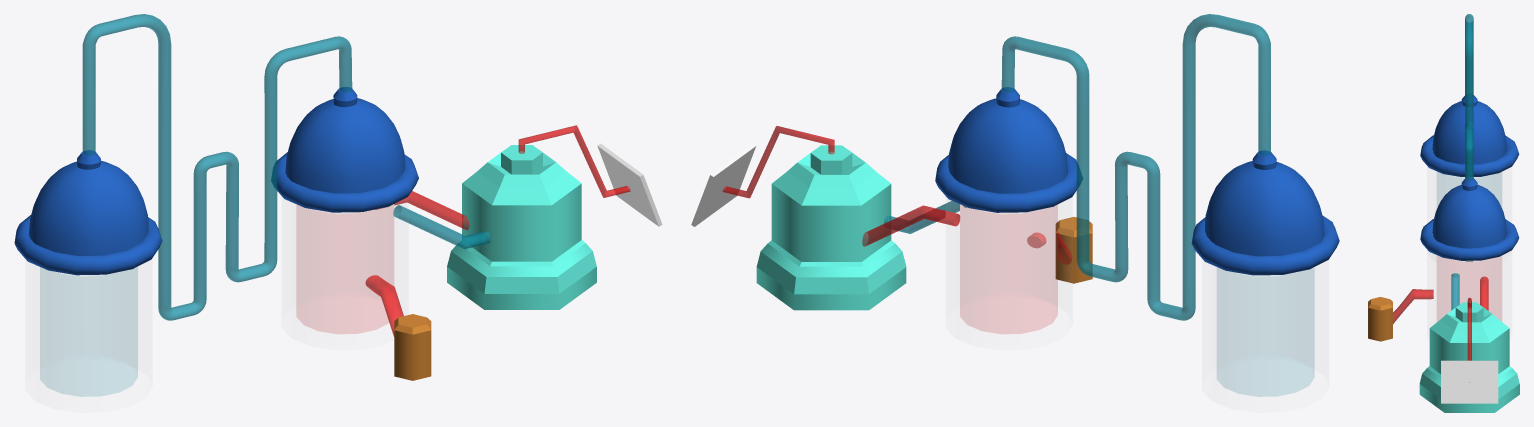
3 renders of one model, left to right at view 1: azimuth 30°, elevation 25°; view 2: azimuth 150°, elevation 25°; view 3: azimuth 270°, elevation 25°, orthographic. The views are drawn at different scales.
Visible parts, largest first — view 1: Tube001, Loft001, Cone003, Cone004, Sphere002, Sphere001, Torus001, Torus002, Cylinder001, Box001, Loft003, Loft004 (+2 smaller); view 2: Tube001, Loft001, Cone004, Cone003, Sphere002, Sphere001, Torus001, Torus002, Cylinder001, Box001, Loft002, Loft004 (+1 smaller); view 3: Tube001, Sphere002, Sphere001, Cone004, Box001, Torus002, Torus001, Loft001, Cylinder001, Cone003, Loft005, Loft004 (+2 smaller).
Boxes of the visible parts, <box> form: Tube001: <box>447,145,596,309</box>; Loft001: <box>82,14,352,320</box>; Cone003: <box>40,267,137,396</box>; Cone004: <box>297,205,393,333</box>; Sphere002: <box>285,87,405,193</box>; Sphere001: <box>29,150,148,255</box>; Torus001: <box>14,215,162,275</box>; Torus002: <box>271,152,418,212</box>; Cylinder001: <box>394,314,431,380</box>; Box001: <box>597,143,662,226</box>; Loft003: <box>393,205,490,249</box>; Loft004: <box>518,125,630,197</box>; Tube001: <box>756,145,906,310</box>; Loft001: <box>1001,14,1271,320</box>; Cone004: <box>960,205,1057,333</box>; Cone003: <box>1217,268,1313,396</box>; Sphere002: <box>948,87,1067,193</box>; Sphere001: <box>1204,150,1324,256</box>; Torus001: <box>1191,215,1339,275</box>; Torus002: <box>935,153,1082,212</box>; Cylinder001: <box>1055,217,1092,283</box>; Box001: <box>691,144,756,226</box>; Loft002: <box>862,205,959,246</box>; Loft004: <box>722,126,834,198</box>; Tube001: <box>1419,302,1519,412</box>; Sphere002: <box>1432,177,1506,248</box>; Sphere001: <box>1432,95,1506,164</box>; Cone004: <box>1437,256,1501,321</box>; Box001: <box>1441,360,1498,403</box>; Torus002: <box>1420,219,1519,260</box>; Torus001: <box>1420,135,1519,176</box>; Loft001: <box>1465,14,1473,261</box>; Cylinder001: <box>1368,297,1392,341</box>; Cone003: <box>1437,172,1501,206</box>; Loft005: <box>1393,289,1433,323</box>; Loft004: <box>1467,297,1471,382</box>.
Size of the model in its own units: 167 by 93.29 by 53.02.
